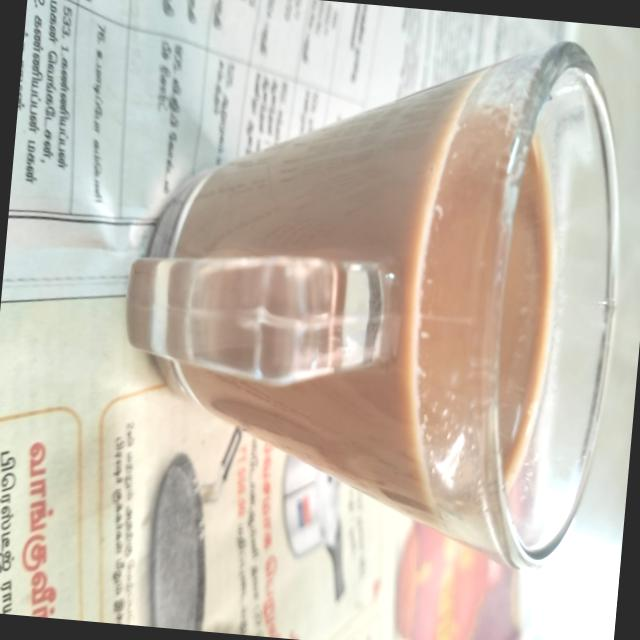glass-VX4N: (103, 0, 640, 575)
